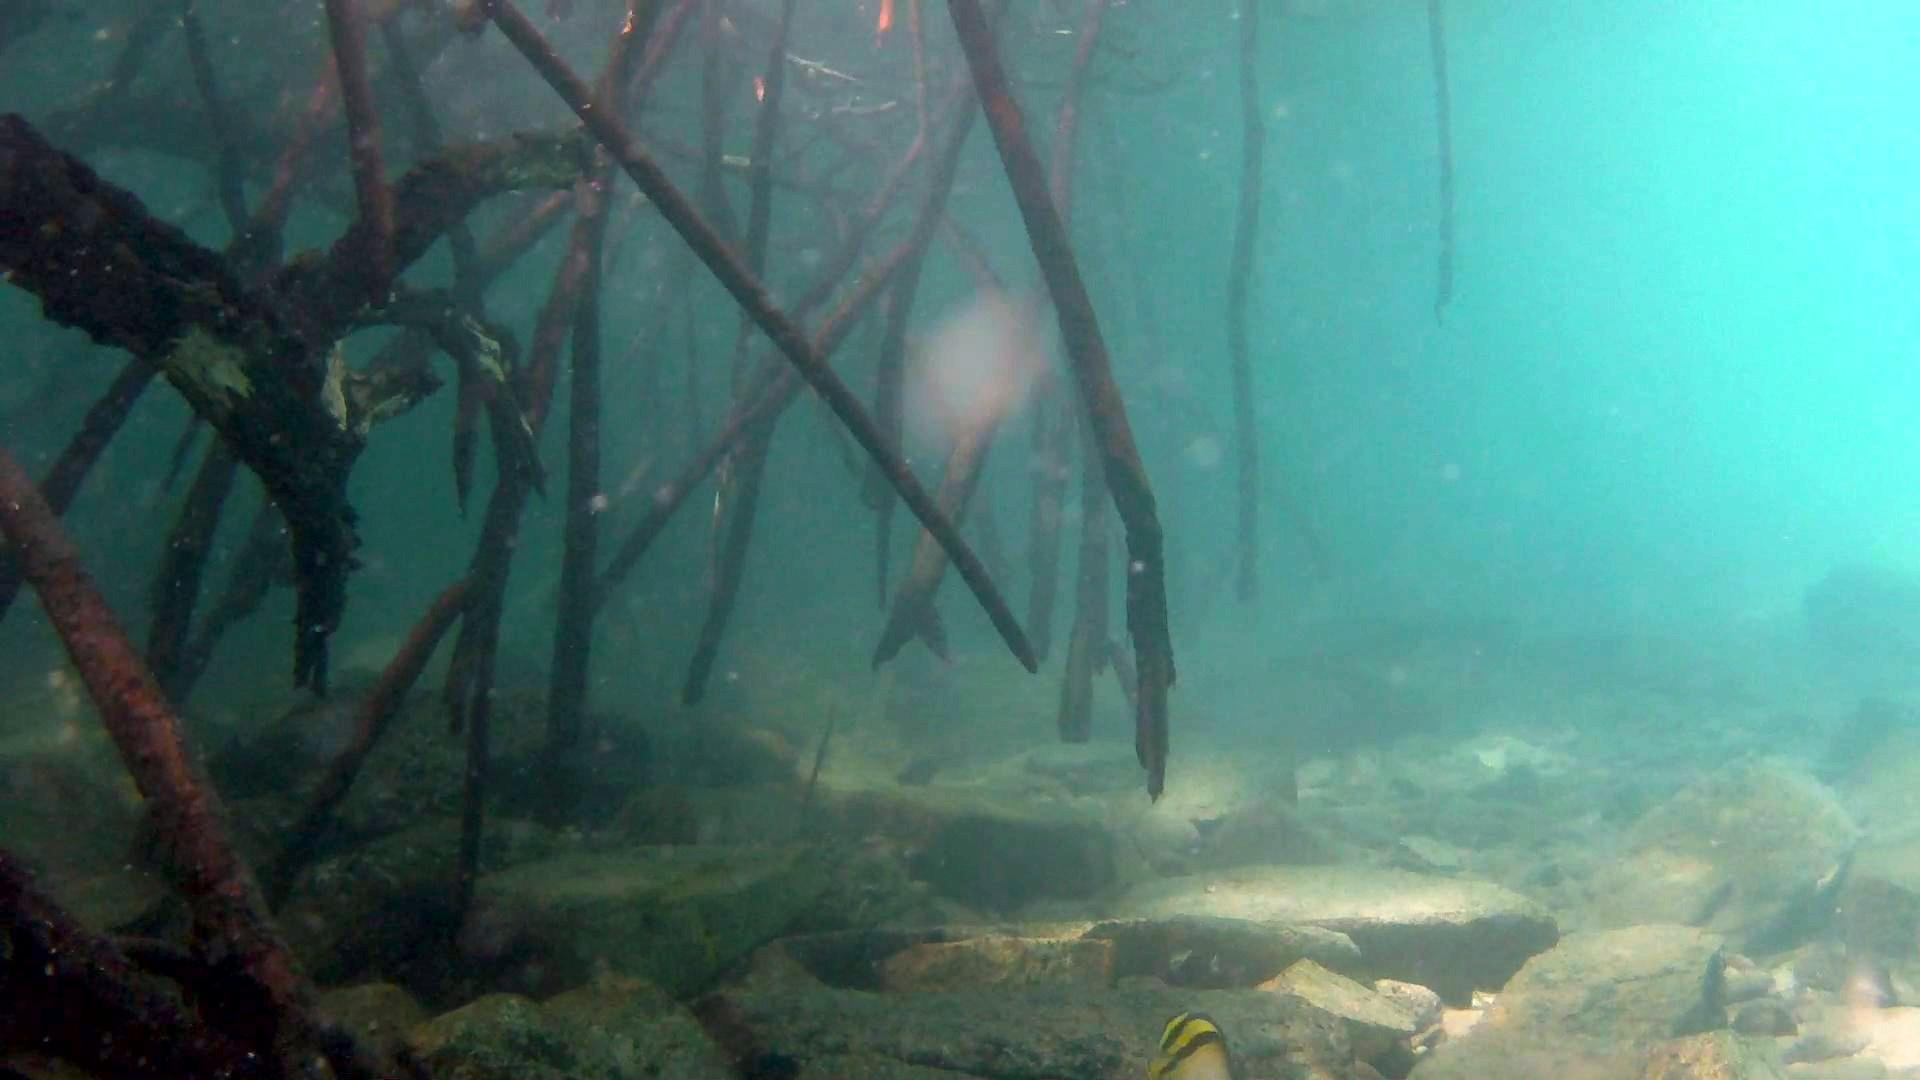chaetodon vagabundus: (1144, 1009, 1242, 1080)
